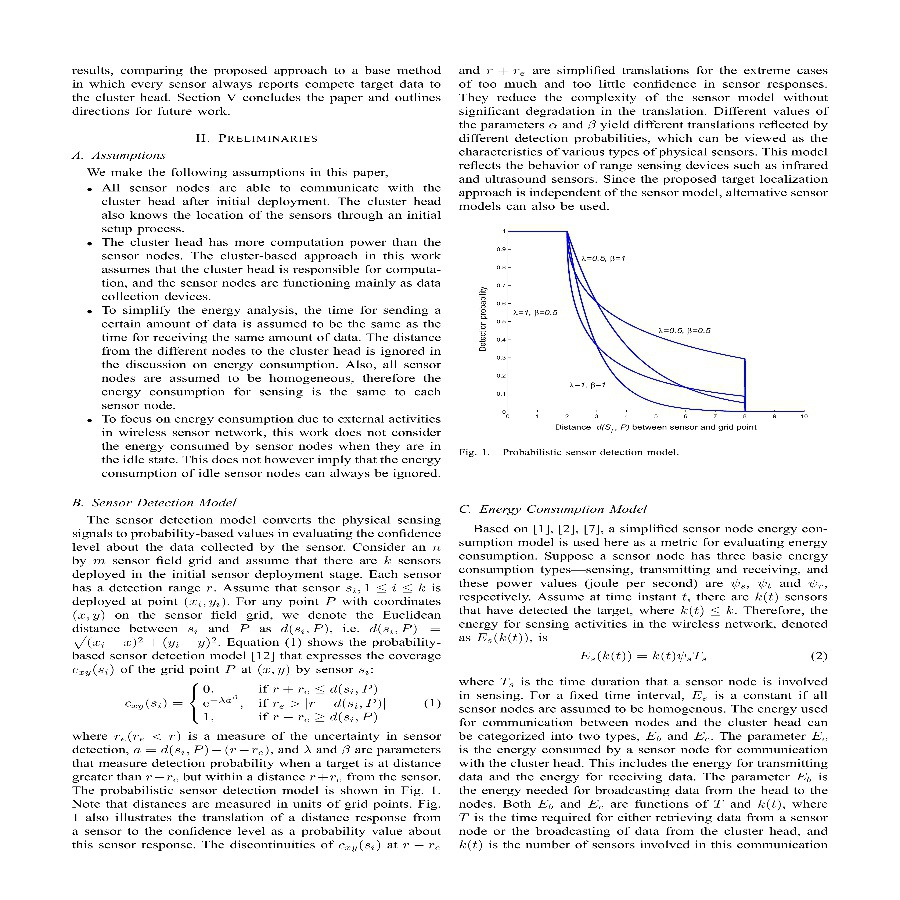eq: (122, 679, 387, 729), (578, 645, 712, 667)
